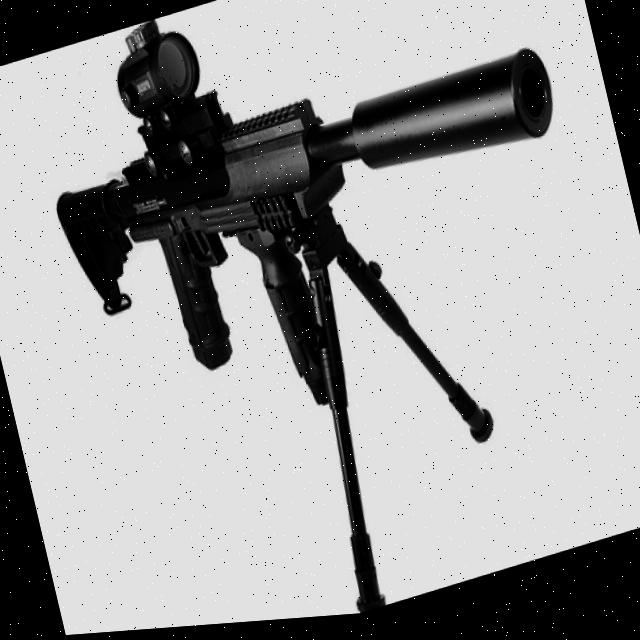firearm: (19, 0, 640, 639)
